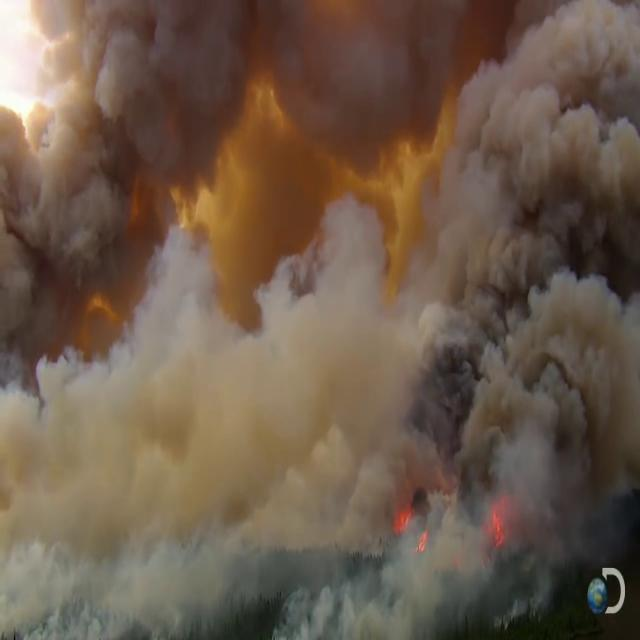Fire: (486, 496, 520, 550)
Smoke: (0, 66, 337, 590), (336, 49, 640, 408), (183, 45, 480, 254), (563, 411, 640, 544), (76, 293, 128, 357)
